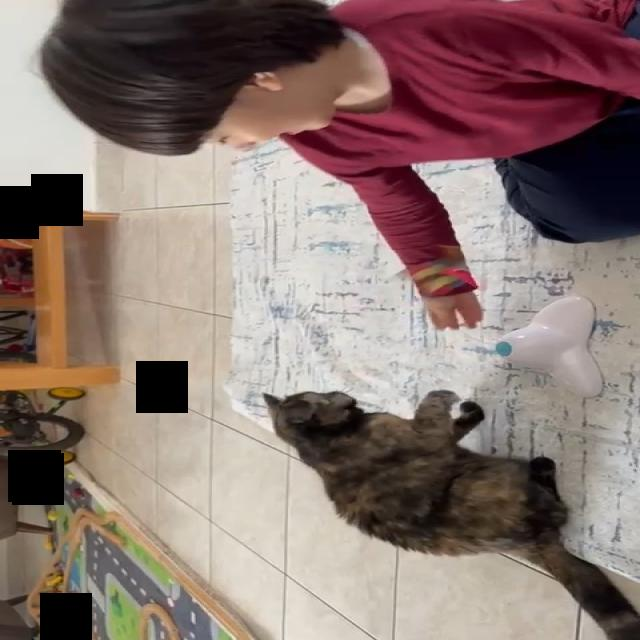authorized: (260, 388, 639, 639)
